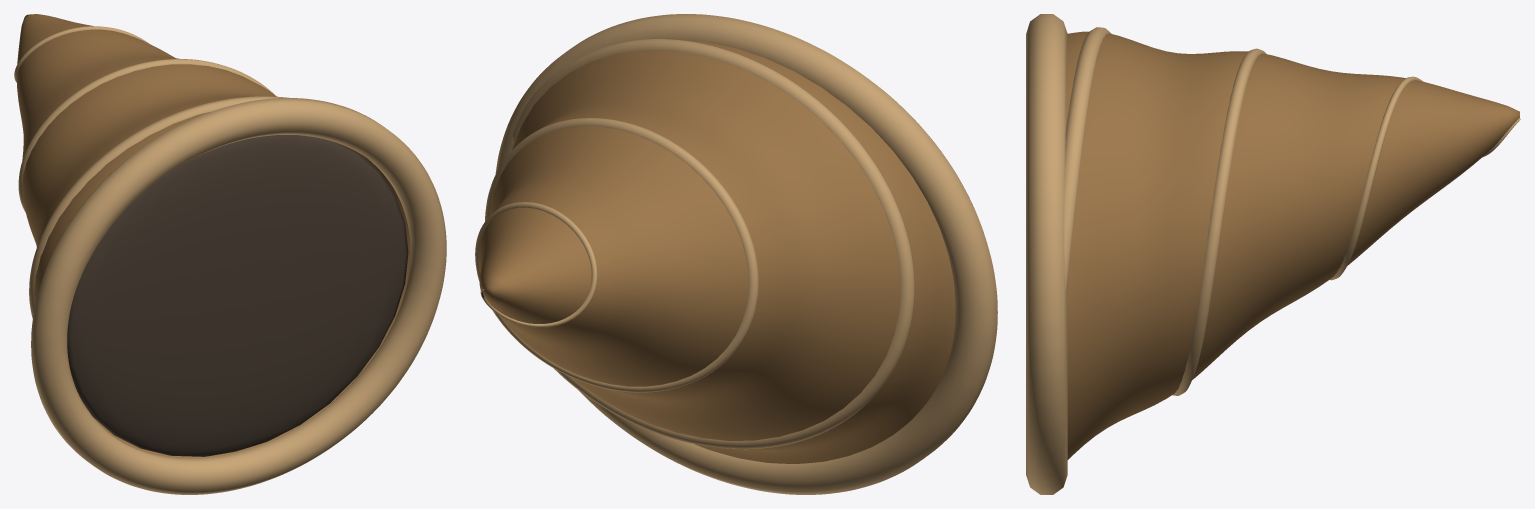
The model's file is hermit_shell.glb.
The picture shows the model from 3 angles, left to right: view 1: azimuth 30°, elevation 25°; view 2: azimuth 150°, elevation 25°; view 3: azimuth 270°, elevation 25°; orthographic projection. The views are drawn at different scales.
Parts seen in each view (by area): view 1: hermit_shell_textured_mesh; view 2: hermit_shell_textured_mesh; view 3: hermit_shell_textured_mesh.
Boxes of the visible parts, x1,y1,x2,y2 form: hermit_shell_textured_mesh: (14, 14, 446, 494); hermit_shell_textured_mesh: (475, 14, 997, 494); hermit_shell_textured_mesh: (1026, 14, 1520, 494).
Size of the model in its own units: 1.66 by 1.47 by 1.55.
1 material, 1 textured.
